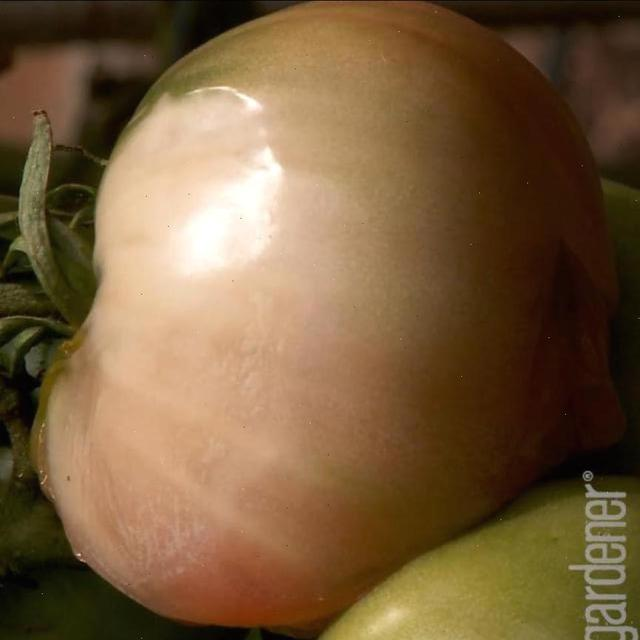Sunscald Fruit: (21, 42, 216, 406)
